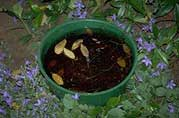container: (34, 18, 146, 110)
water: (40, 27, 135, 92)
